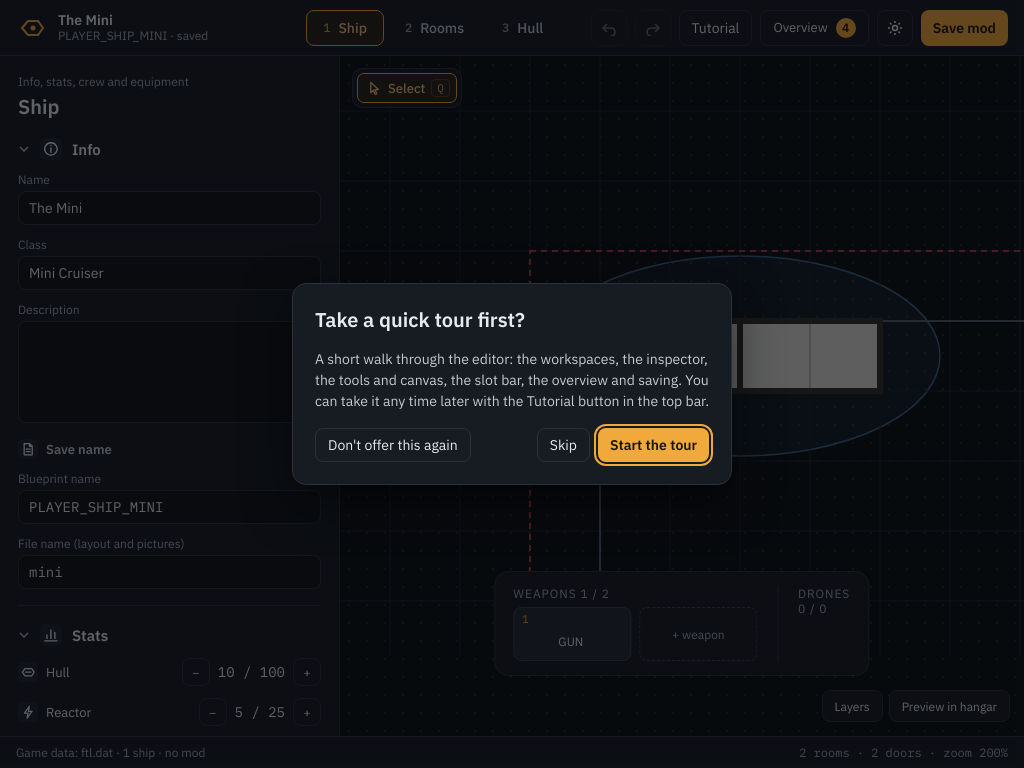
the offer of a tour › starts the tour
Click the button "Start the tour". click: x=654, y=445
box: [598, 428, 709, 462]
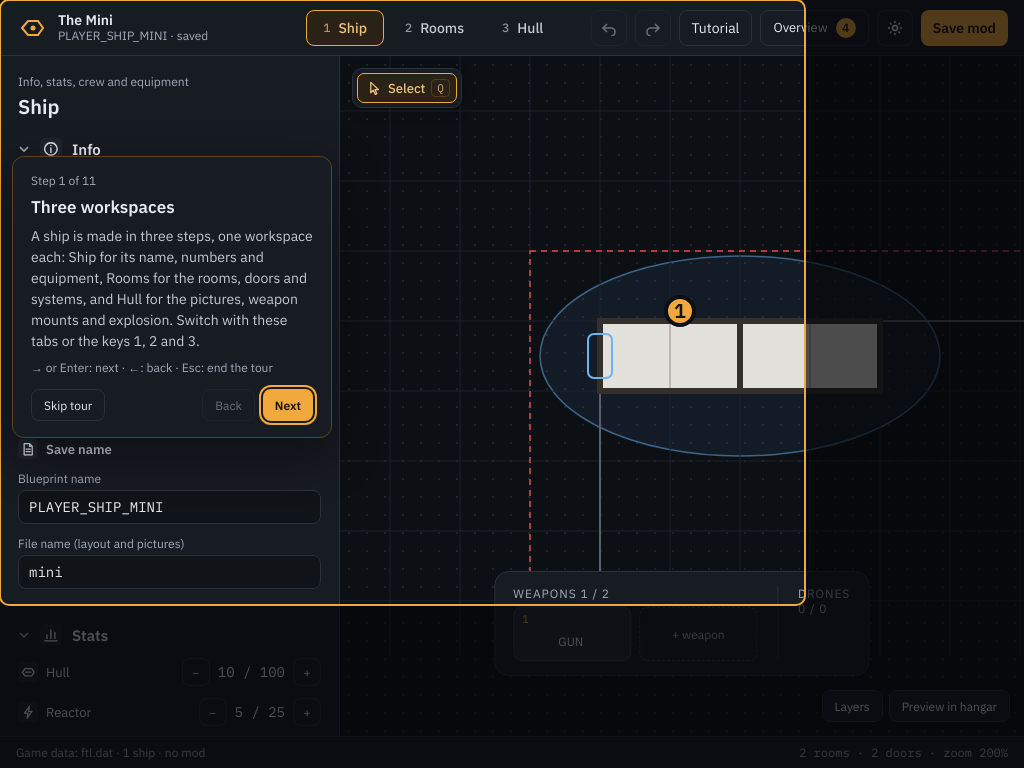
expect the heading "Take a quick tour first?" is gone: met
expect the dialog "Three workspaces" is shown: met, box [12, 156, 332, 438]
